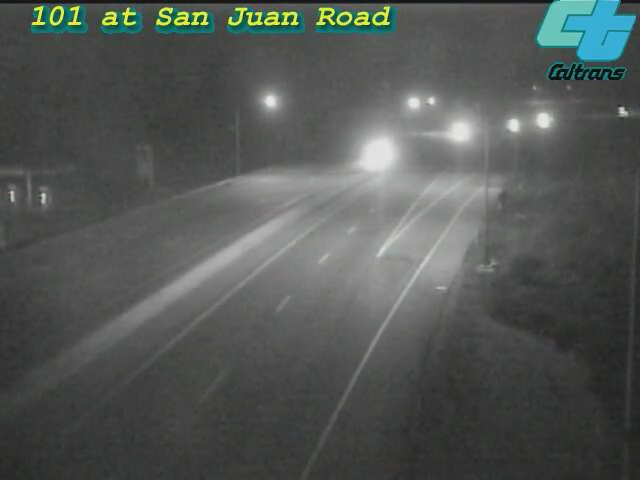vehicle: (355, 125, 405, 175), (434, 108, 484, 158), (489, 101, 539, 151), (519, 95, 569, 145), (599, 88, 640, 138)
